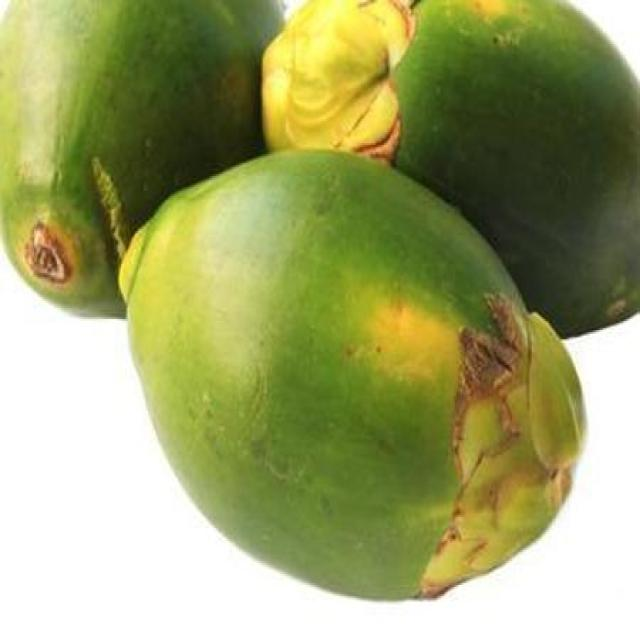good: (118, 150, 586, 603), (260, 0, 639, 341), (0, 0, 292, 321)
